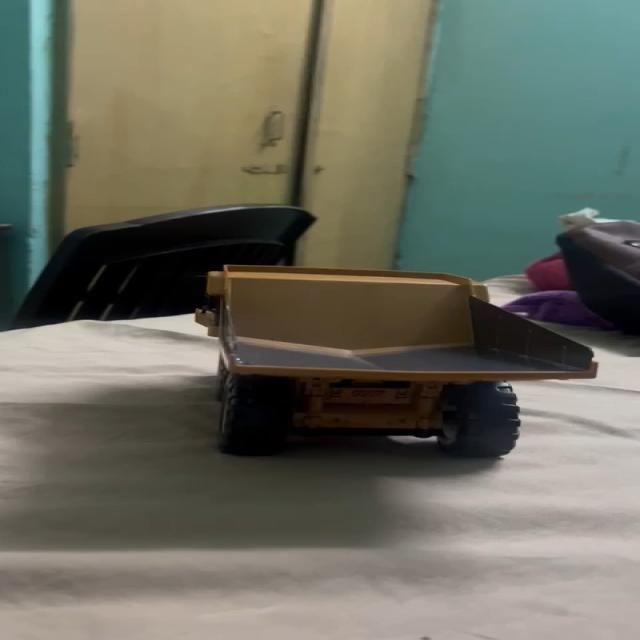dump_truck: (184, 260, 604, 472)
